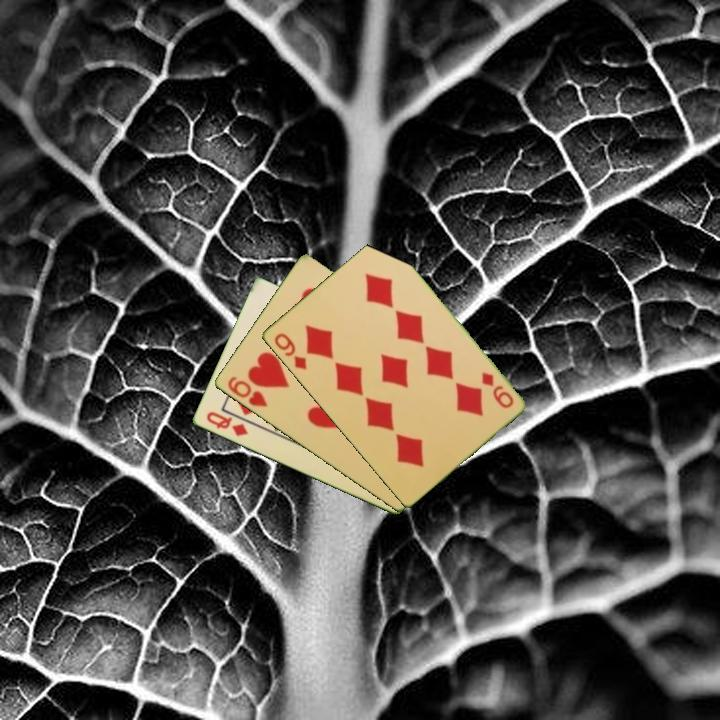6h: (224, 373, 270, 410)
9d: (270, 330, 309, 373), (477, 368, 516, 411)
Qd: (202, 408, 251, 439)
